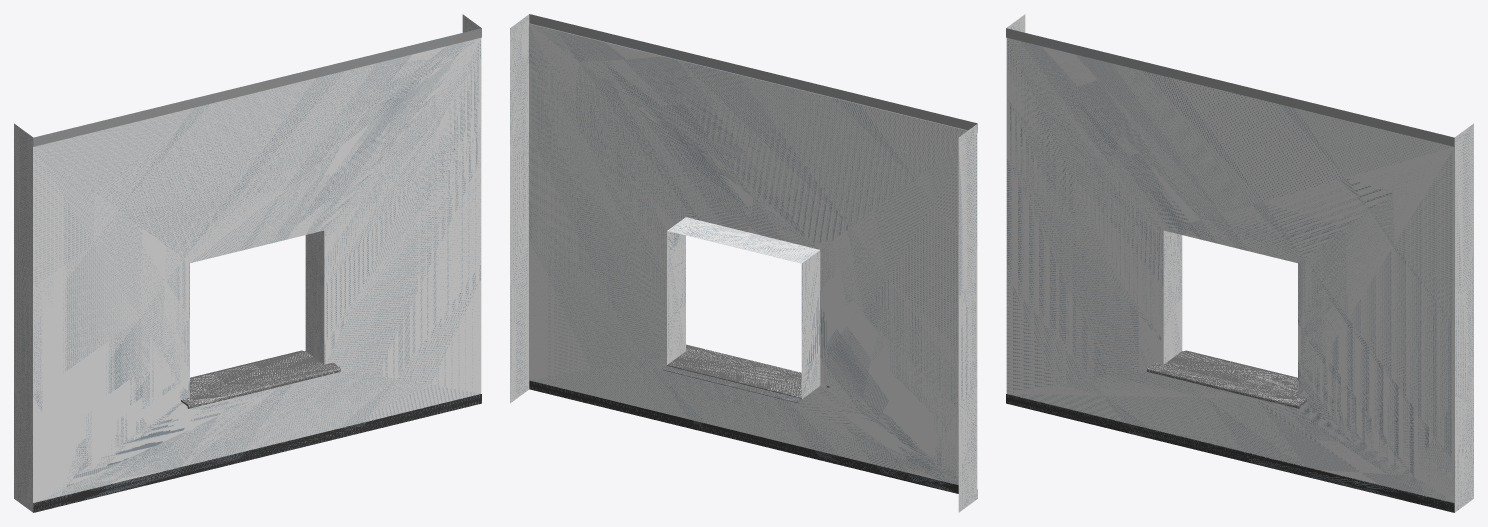
Rendered from WindowBlock_os_plinth_[500x400]_150x143x[080].dae.
3 views of the same model, side by side, from view 1: azimuth 30°, elevation 25°; view 2: azimuth 150°, elevation 25°; view 3: azimuth 330°, elevation 25° (orthographic).
Visible parts, largest first — view 1: group_1 (×4), group_2; view 2: group_1 (×4), group_2 (×2); view 3: group_1 (×4), group_2.
Boxes of the visible parts, x1,y1,x2,y2 form: group_1 (×4): (14, 14, 481, 512); group_2: (181, 351, 340, 408); group_1 (×4): (510, 14, 977, 512); group_2 (×2): (663, 344, 829, 402); group_1 (×4): (1006, 14, 1473, 512); group_2: (1147, 351, 1306, 408).
Size of the model in its own units: 197 by 23.03 by 157.
